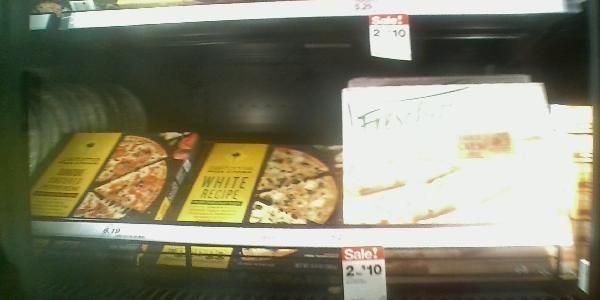pizza: (29, 127, 198, 225), (179, 142, 351, 224), (453, 105, 594, 139), (454, 168, 597, 197), (454, 197, 597, 226), (453, 140, 596, 168)
